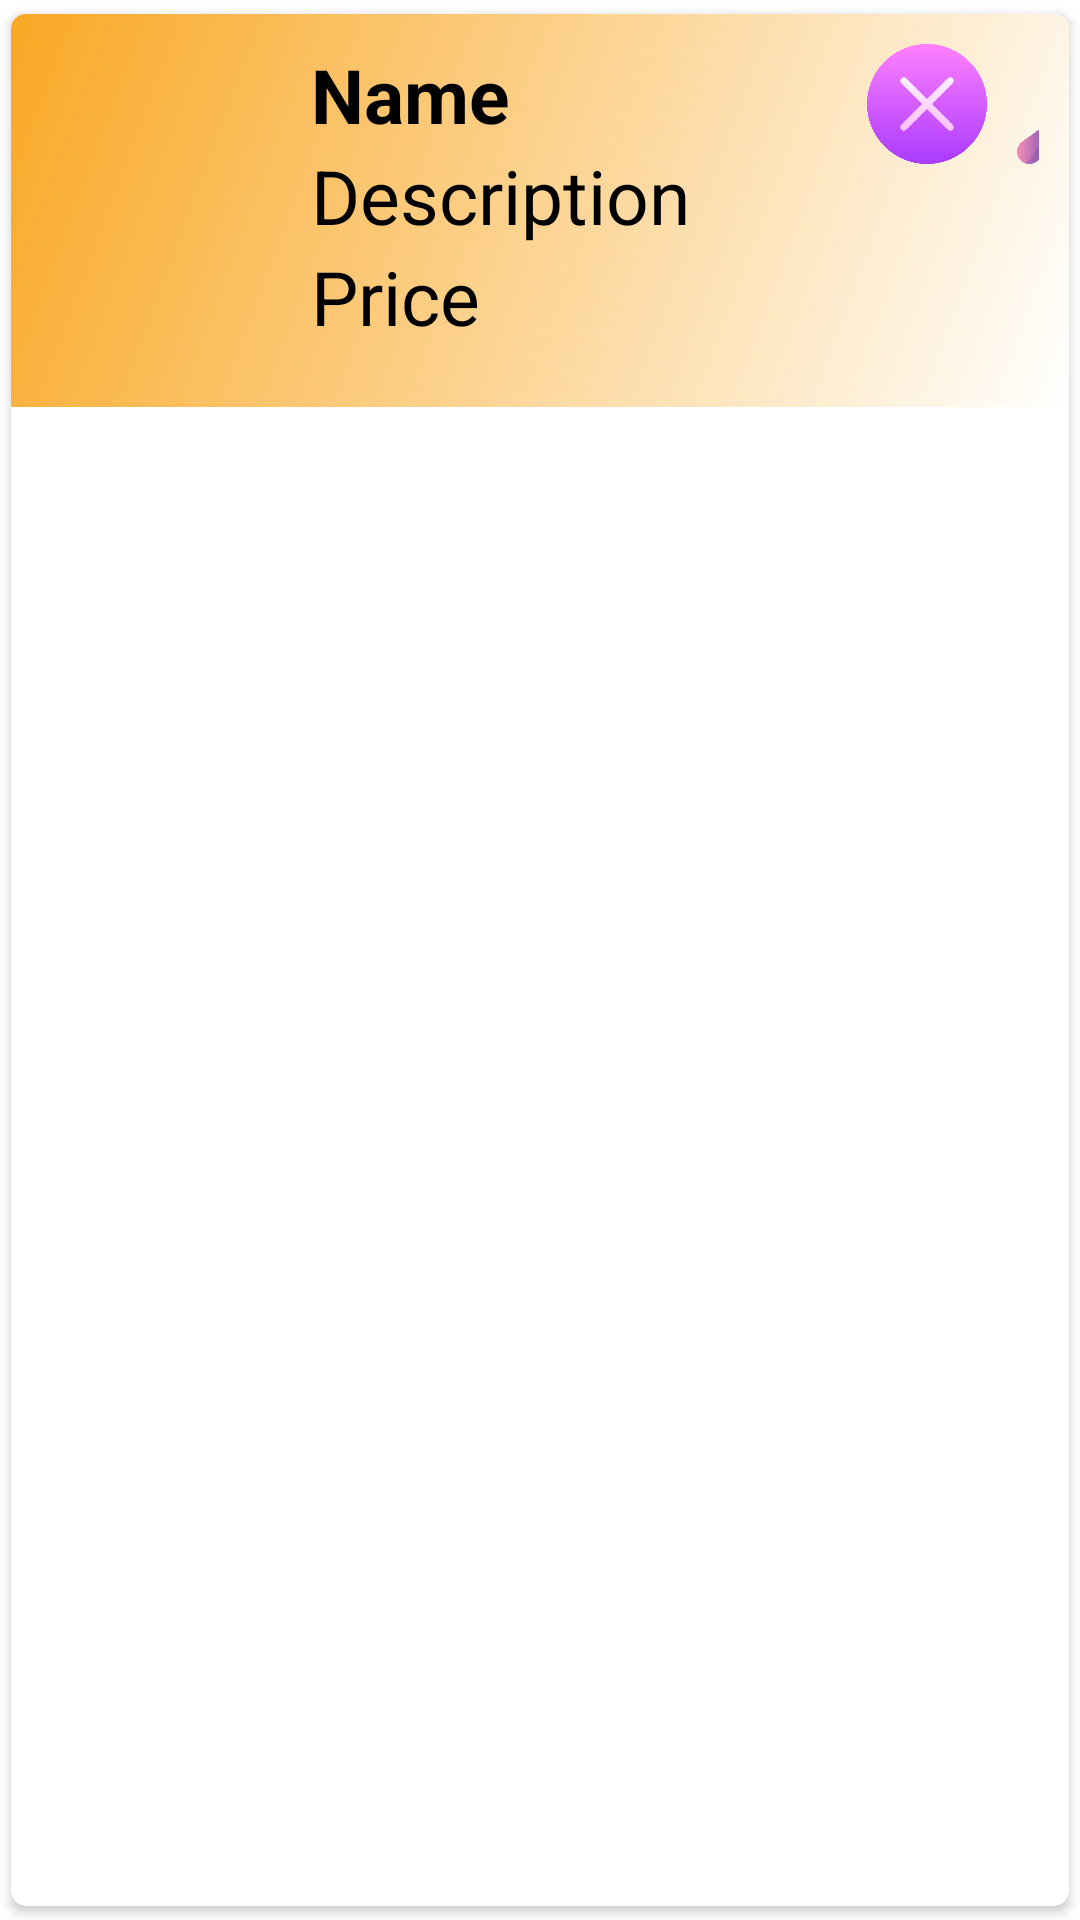

Icons on this 1080w x 1920h Android screen, each with the point to tap as [x,y]:
delete: [921,104]
